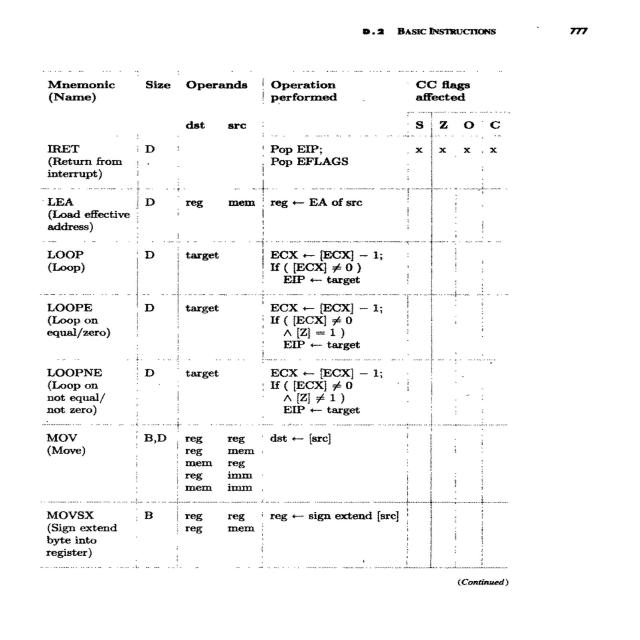diagram: (26, 47, 588, 630)
